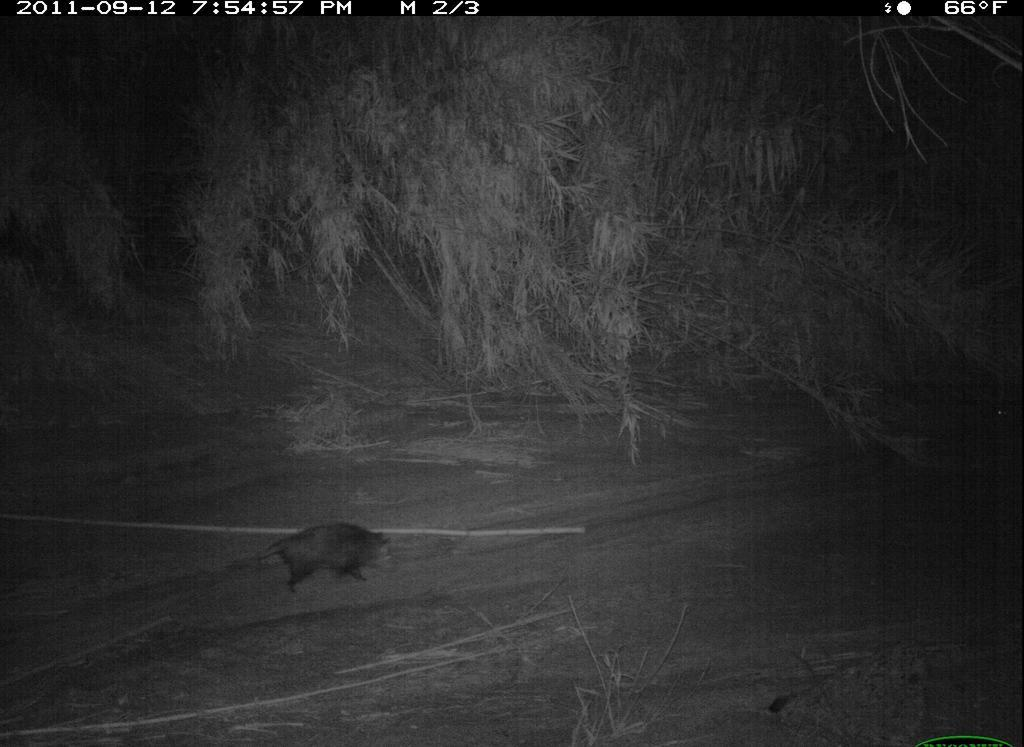opossum: (222, 521, 411, 601)
